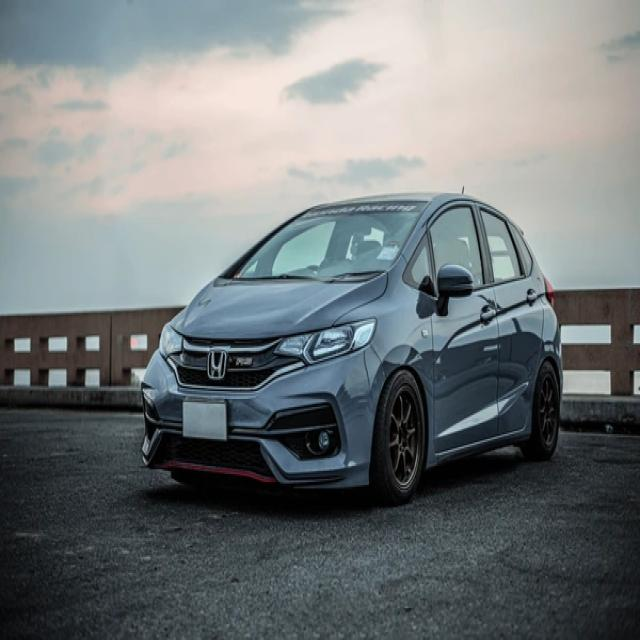honda: (206, 348, 228, 382)
